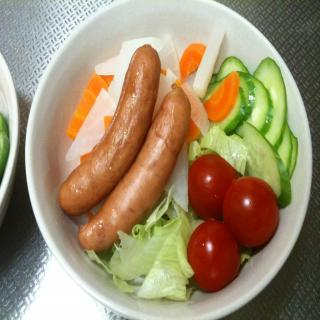Cucumber: (200, 56, 300, 204), (252, 55, 288, 150), (0, 130, 8, 178), (0, 112, 8, 129)
Salad: (56, 18, 300, 306)
Tomato: (220, 174, 281, 248), (187, 214, 240, 294), (188, 154, 234, 217)
